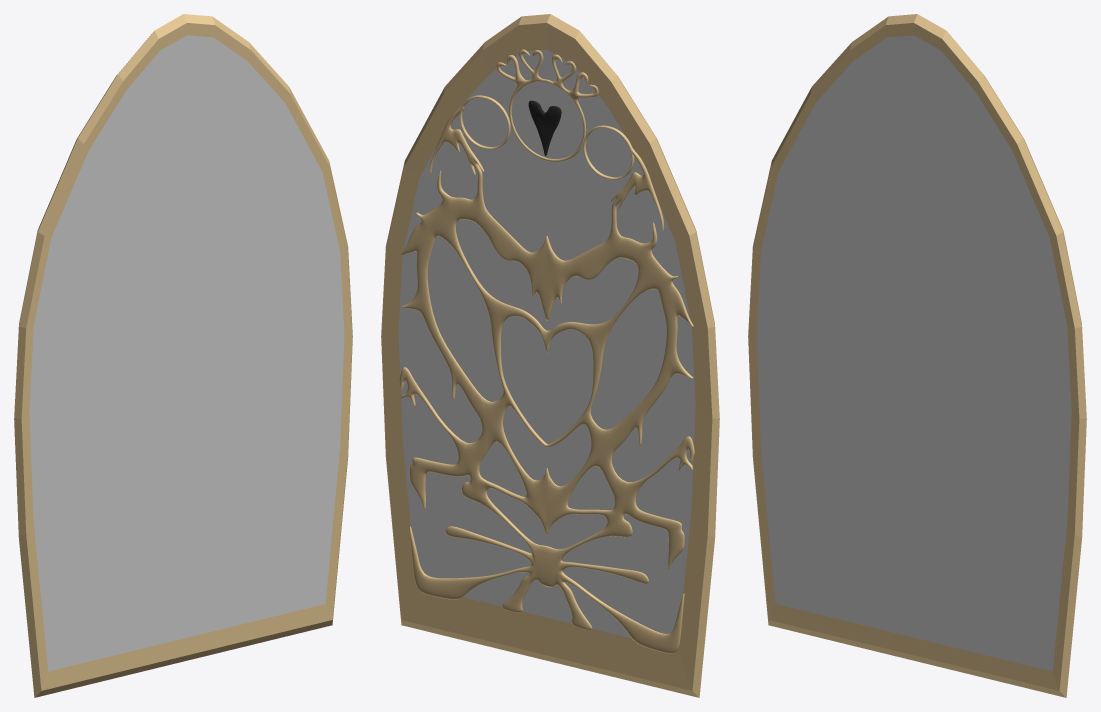
Rendered from StainedGlass.fbx.
3 renders of one model, left to right at view 1: azimuth 30°, elevation 25°; view 2: azimuth 150°, elevation 25°; view 3: azimuth 330°, elevation 25°, orthographic.
Visible parts, largest first — view 1: Glass.001; view 2: Glass.001, GoldFrame; view 3: Glass.001.
Boxes of the visible parts, <box> form: Glass.001: <box>14,14,352,697</box>; Glass.001: <box>381,14,719,697</box>; GoldFrame: <box>399,49,694,653</box>; Glass.001: <box>748,14,1086,697</box>.
Size of the model in its own units: 465 by 850 by 25.85.
